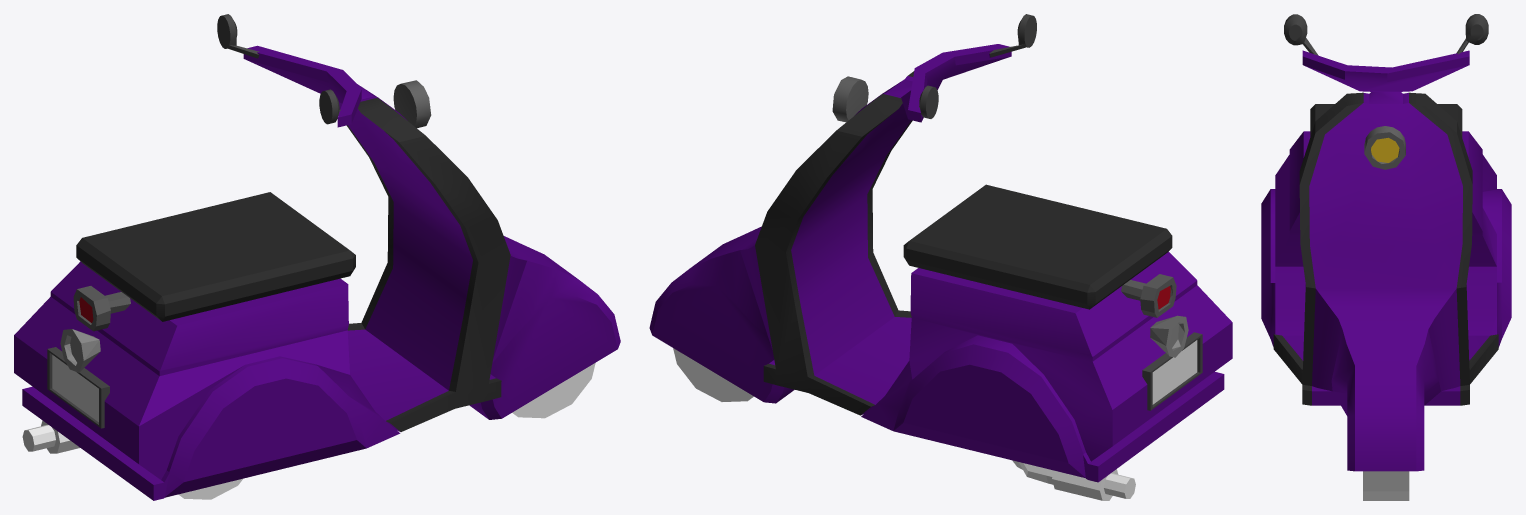
File: Scooter_NaymConcept-revised01.fbx
The picture shows the model from 3 angles, left to right: view 1: azimuth 30°, elevation 25°; view 2: azimuth 150°, elevation 25°; view 3: azimuth 270°, elevation 25°; orthographic projection. The views are drawn at different scales.
Visible parts, largest first — view 1: Scooter, Plate, Tail Light, Cylinder.004, Headlight, Turbo, Cylinder.002; view 2: Scooter, Plate, Cylinder.002, Cylinder.004, Tail Light, Headlight, Turbo; view 3: Scooter, Headlight, Cylinder.004.
Boxes of the visible parts, <box> form: Scooter: <box>14,14,620,500</box>; Plate: <box>47,347,109,428</box>; Tail Light: <box>73,286,130,331</box>; Cylinder.004: <box>512,363,595,418</box>; Headlight: <box>393,80,431,128</box>; Turbo: <box>60,329,100,372</box>; Cylinder.002: <box>22,420,79,453</box>; Scooter: <box>649,14,1232,482</box>; Plate: <box>1142,332,1202,410</box>; Cylinder.002: <box>1019,462,1135,500</box>; Cylinder.004: <box>673,348,753,401</box>; Tail Light: <box>1121,274,1176,317</box>; Headlight: <box>832,76,868,122</box>; Turbo: <box>1150,315,1188,357</box>; Scooter: <box>1261,14,1511,471</box>; Headlight: <box>1364,126,1405,169</box>; Cylinder.004: <box>1363,471,1409,500</box>.
Bounding box in the file's own units: 734 × 551 × 337.
